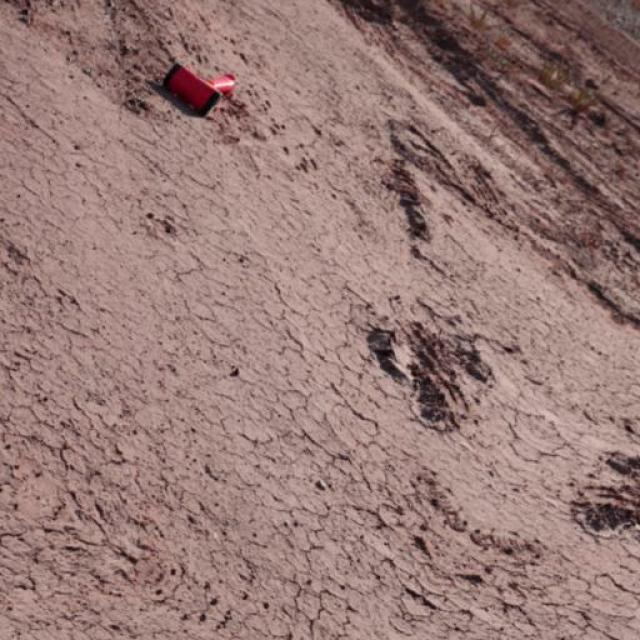mallet: (160, 60, 236, 118)
